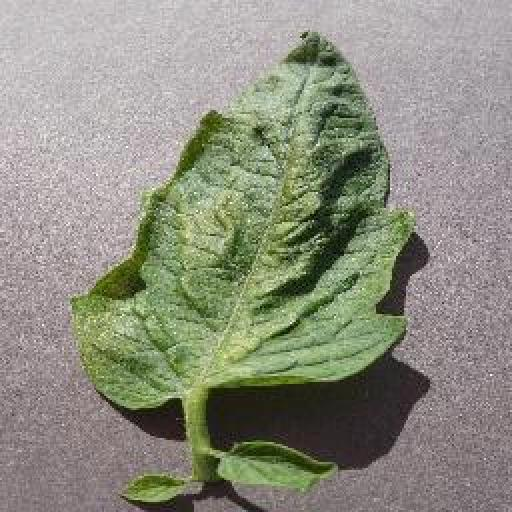disease_tomato: (71, 30, 413, 408)
